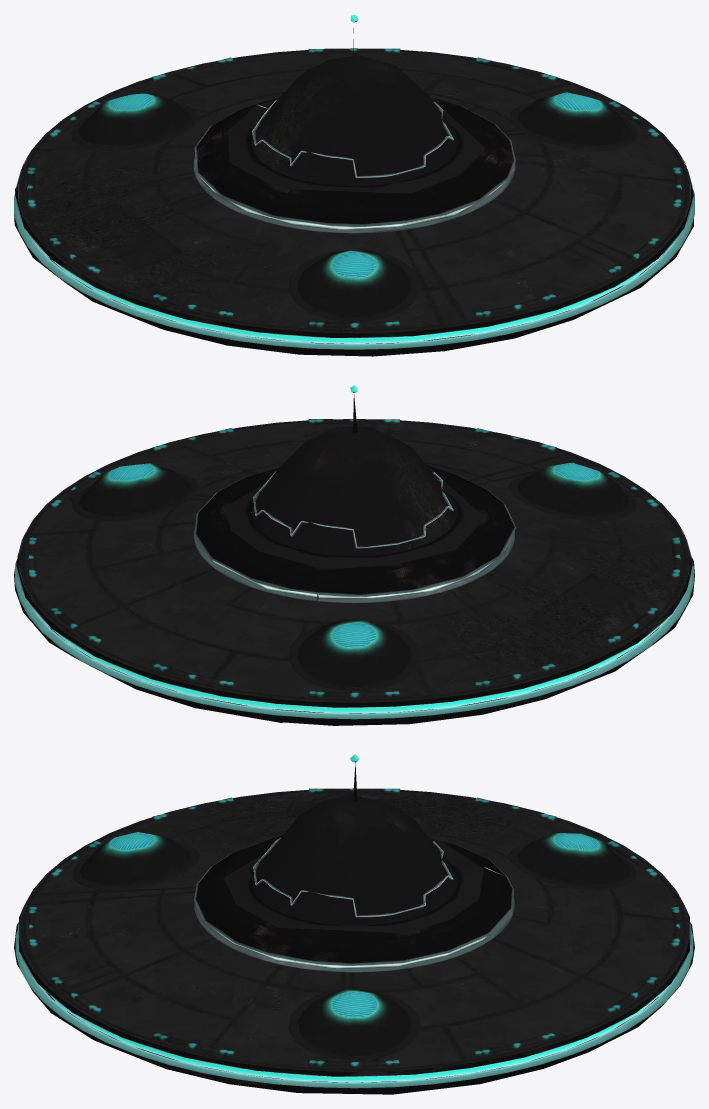
The model's file is UFO.glb.
The picture shows the model from 3 angles, top to bottom: view 1: azimuth 30°, elevation 25°; view 2: azimuth 150°, elevation 25°; view 3: azimuth 270°, elevation 25°; orthographic projection.
Visible parts, largest first — view 1: ufo.1; view 2: ufo.1; view 3: ufo.1.
Part boxes in pixels (x1=…): ufo.1: x1=14, y1=14, x2=694, y2=356; ufo.1: x1=14, y1=385, x2=694, y2=725; ufo.1: x1=14, y1=754, x2=694, y2=1094.
Size of the model in its own units: 31.72 by 13.14 by 31.75.
Materials: 1 (1 with a texture image).
